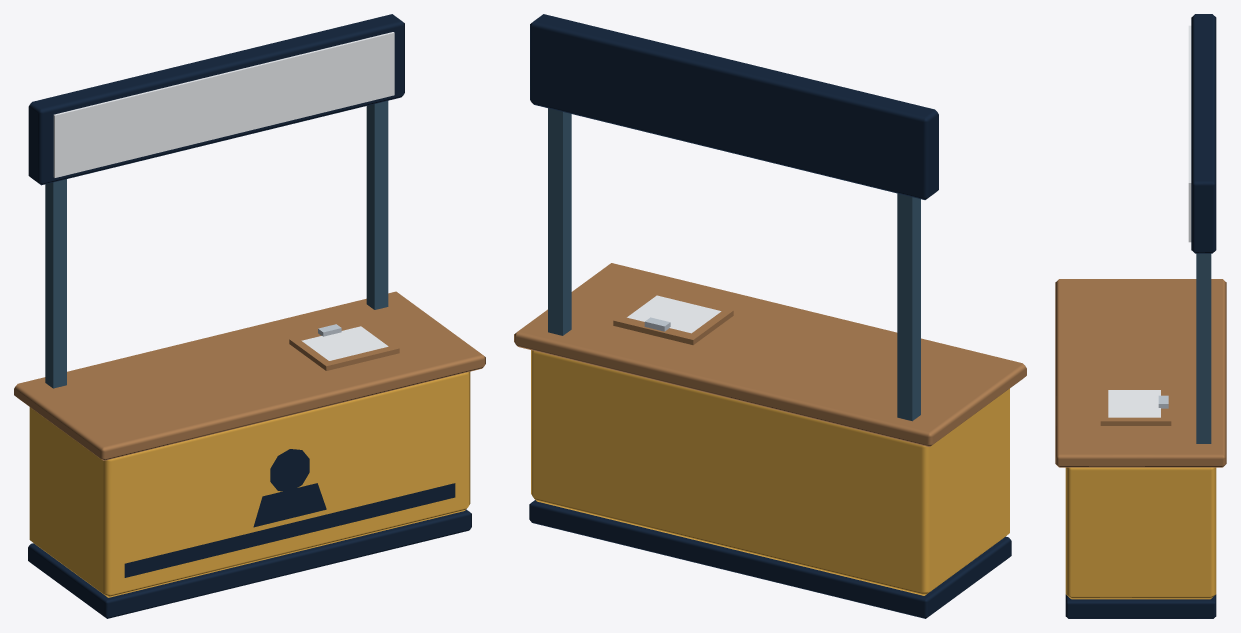
The model's file is CM_Tycoon_HireStation.fbx.
3 views of the same model, side by side, from view 1: azimuth 30°, elevation 25°; view 2: azimuth 150°, elevation 25°; view 3: azimuth 270°, elevation 25° (orthographic). The views are drawn at different scales.
Visible parts, largest first — view 1: Body, Face; view 2: Body; view 3: Body, Face.
Boxes of the visible parts, x1=… form: Body: x1=14, y1=14, x2=485, y2=618; Face: x1=53, y1=32, x2=394, y2=177; Body: x1=514, y1=14, x2=1026, y2=618; Body: x1=1055, y1=14, x2=1226, y2=618; Face: x1=1188, y1=25, x2=1191, y2=242.
Bounding box in the file's own units: 8.4 × 3.4 × 9.6.
Materials: 1 (1 with a texture image).
